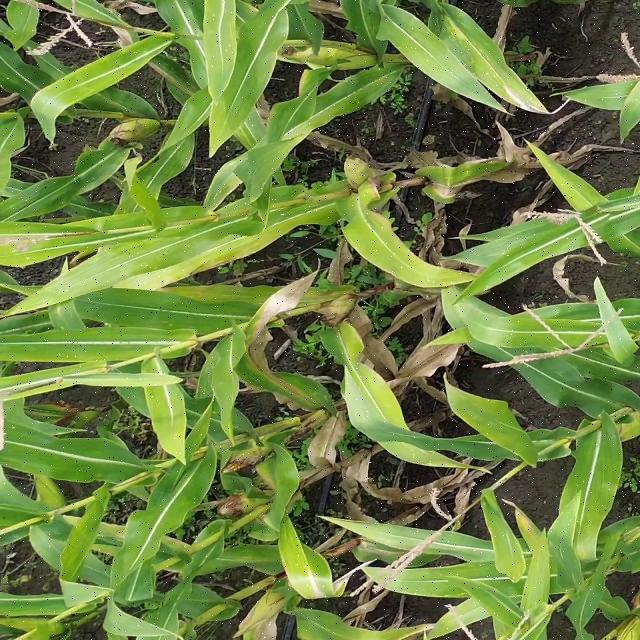gray-leaf-spot: (487, 522, 594, 596)
northern-leaf-blight: (238, 270, 306, 413), (251, 451, 303, 537), (292, 550, 349, 618)
southern-leaf-blight: (438, 25, 542, 107), (99, 242, 215, 299)
